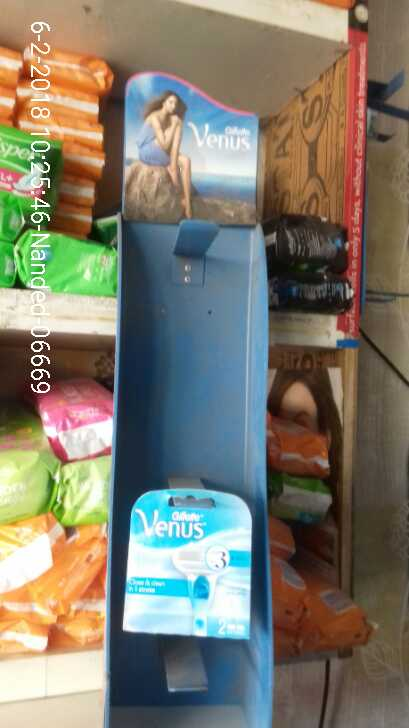venus: (116, 488, 248, 638)
